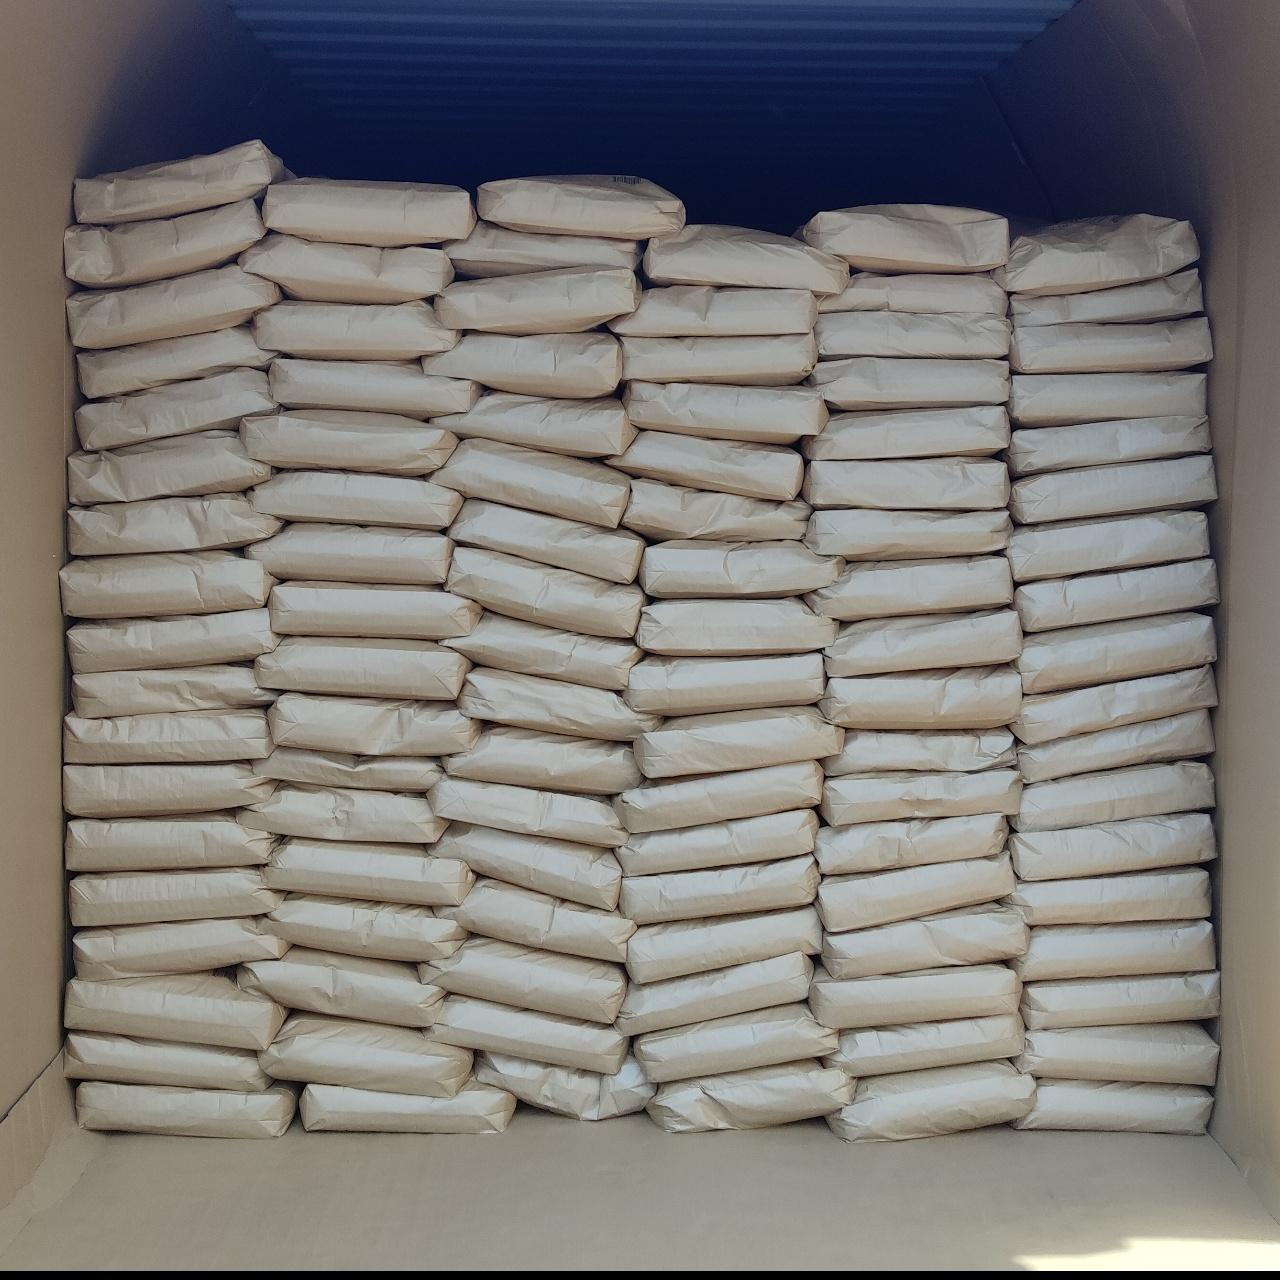sack: (67, 263, 282, 348), (73, 139, 294, 223), (259, 1013, 471, 1098), (418, 937, 626, 1023), (64, 199, 263, 288), (445, 547, 644, 636), (431, 440, 629, 527), (64, 972, 286, 1050), (237, 946, 445, 1027), (440, 877, 635, 961), (617, 952, 813, 1035), (76, 368, 275, 450), (1012, 665, 1217, 744), (829, 1062, 1035, 1141), (449, 499, 644, 583), (431, 823, 620, 908), (1016, 613, 1216, 694), (634, 1003, 838, 1081), (818, 852, 1015, 932), (999, 215, 1198, 293), (425, 996, 627, 1074), (1014, 557, 1218, 633), (443, 613, 644, 690), (822, 903, 1028, 978), (238, 231, 452, 302), (614, 760, 822, 833), (634, 707, 844, 778), (263, 177, 475, 247), (626, 906, 821, 982), (68, 431, 272, 504), (646, 1060, 855, 1130), (1003, 511, 1208, 583), (77, 325, 273, 399), (1008, 455, 1217, 524), (644, 225, 849, 295), (239, 409, 458, 475), (457, 667, 658, 738), (1012, 762, 1214, 832), (799, 204, 1008, 272), (1017, 710, 1213, 782), (435, 267, 640, 335), (61, 551, 273, 617), (67, 608, 278, 674), (263, 839, 474, 905), (428, 778, 627, 847), (1010, 813, 1216, 880), (619, 855, 819, 922), (606, 430, 803, 499), (809, 965, 1020, 1029), (617, 809, 819, 876), (826, 608, 1022, 678), (256, 636, 469, 700), (73, 917, 290, 979), (422, 332, 622, 399), (433, 392, 636, 457), (477, 176, 685, 240), (442, 727, 641, 794), (806, 556, 1012, 620), (263, 896, 467, 960), (68, 493, 282, 554), (622, 652, 825, 716), (268, 693, 478, 755), (270, 358, 482, 418), (475, 1050, 656, 1121), (245, 523, 452, 584), (828, 1013, 1022, 1077), (819, 666, 1021, 728), (622, 382, 828, 443), (1017, 1023, 1218, 1085), (77, 1081, 297, 1137), (237, 784, 447, 843), (1008, 416, 1210, 477), (248, 472, 462, 530), (64, 1033, 268, 1092), (268, 583, 481, 640), (70, 869, 282, 926), (621, 477, 810, 542), (252, 300, 459, 359), (66, 813, 275, 871), (1012, 921, 1214, 980), (813, 813, 1007, 874), (301, 1077, 515, 1132), (636, 597, 837, 655), (1006, 867, 1210, 925), (441, 220, 642, 278), (821, 768, 1022, 825), (639, 540, 844, 597), (1022, 971, 1219, 1029), (1010, 316, 1212, 373), (1009, 268, 1201, 327), (63, 763, 275, 816), (66, 708, 273, 762), (804, 406, 1009, 459), (72, 665, 275, 719), (1014, 1080, 1213, 1133), (804, 510, 1012, 560), (608, 287, 815, 338), (1008, 373, 1205, 425), (809, 358, 1009, 409), (622, 332, 816, 384), (802, 459, 1008, 509), (815, 311, 1010, 359), (252, 745, 442, 794), (824, 730, 1014, 775), (821, 272, 1007, 316)
